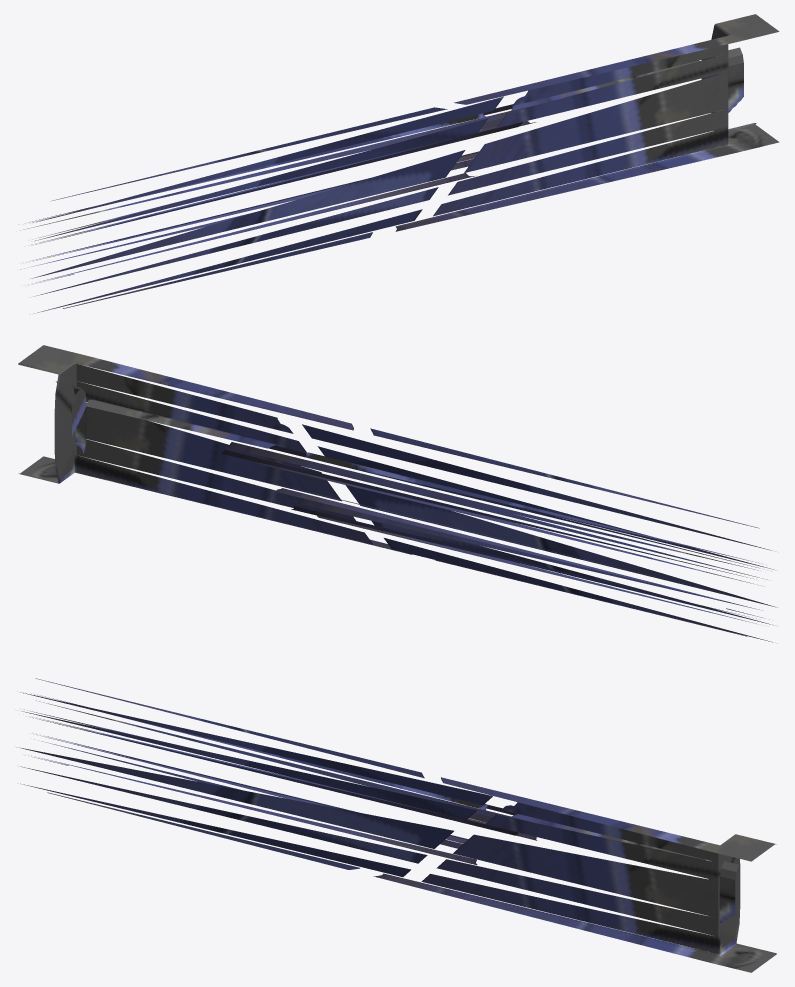
The picture shows the model from 3 angles, top to bottom: view 1: azimuth 30°, elevation 25°; view 2: azimuth 150°, elevation 25°; view 3: azimuth 330°, elevation 25°; orthographic projection.
Size of the model in its own units: 1.39 by 0.1974 by 0.0933.
